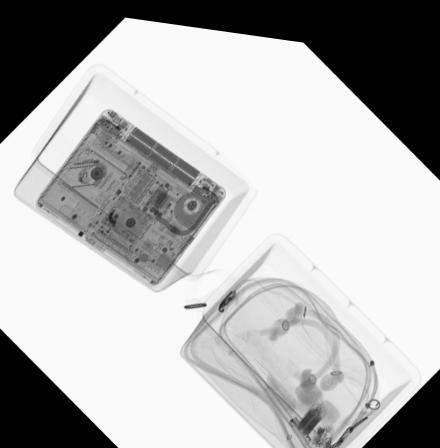Lighter: (288, 407, 313, 437)
